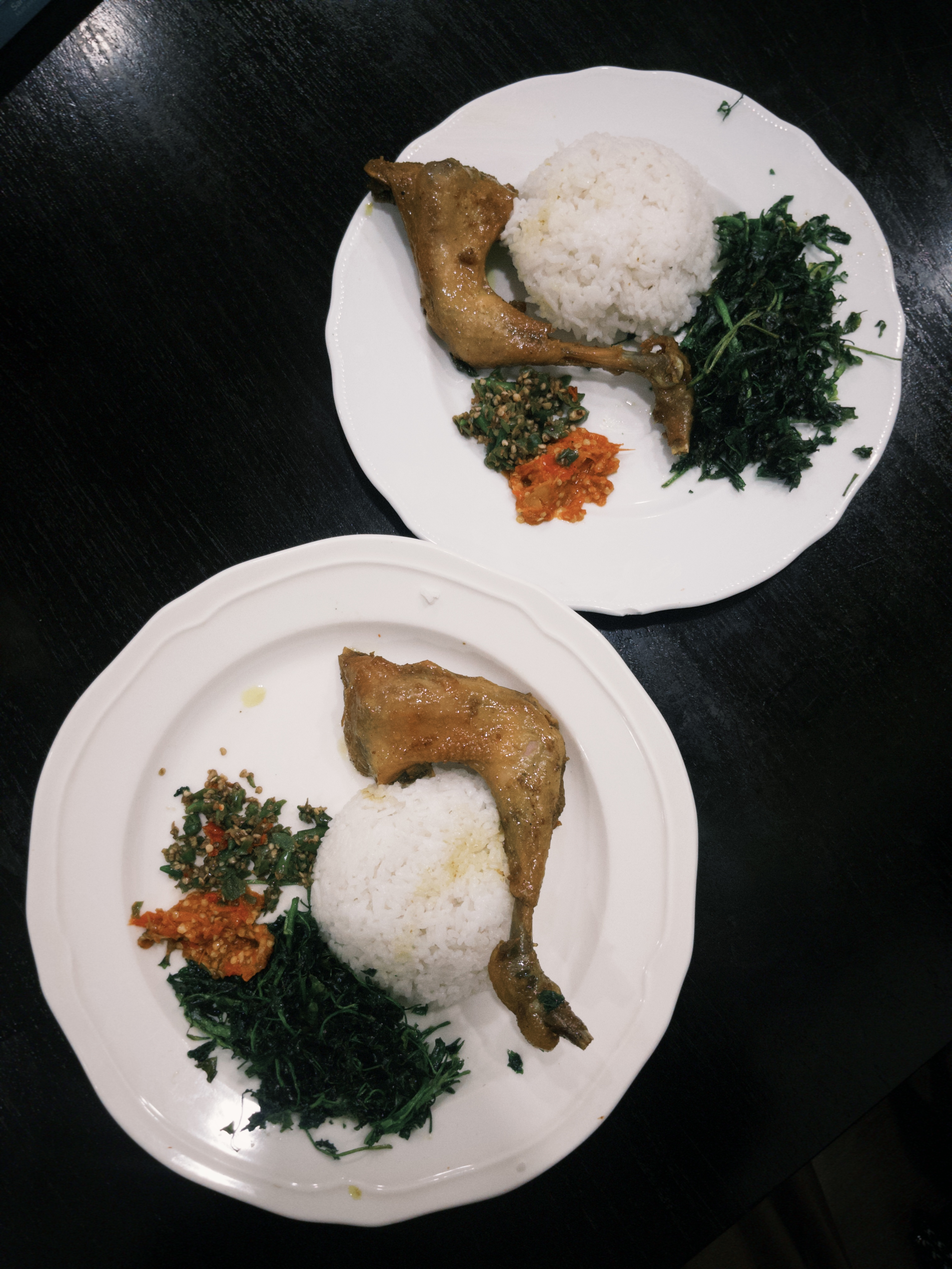buah_sayur_lainnya: (718, 217, 894, 522), (203, 987, 442, 1147)
daging: (332, 650, 575, 793), (373, 159, 504, 365)
makanan_berpati: (321, 784, 504, 987), (515, 132, 694, 338)
